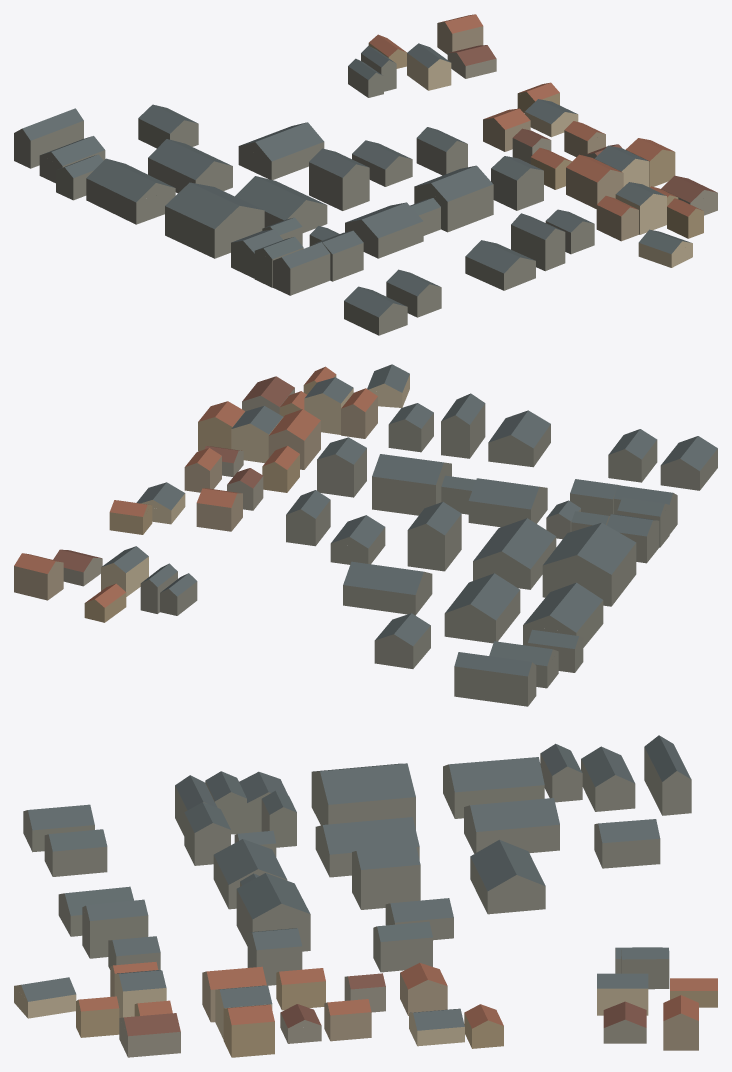
3 views of the same model, one above another, from view 1: azimuth 30°, elevation 25°; view 2: azimuth 150°, elevation 25°; view 3: azimuth 270°, elevation 25° (orthographic). The views are drawn at different scales.
Parts seen in each view (by area): view 1: C_-4_-1; view 2: C_-4_-1; view 3: C_-4_-1.
Part boxes in pixels (x1,y1,x2,y2): C_-4_-1: (14, 14, 717, 335); C_-4_-1: (14, 364, 717, 706); C_-4_-1: (14, 735, 717, 1057).
Size of the model in its own units: 178 by 15.46 by 188.
